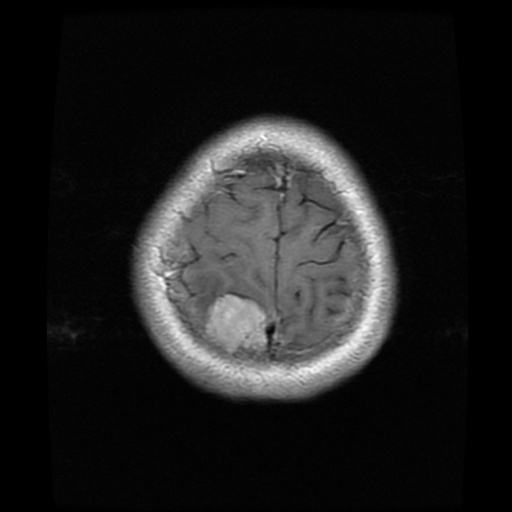meningioma: (204, 293, 268, 352)
